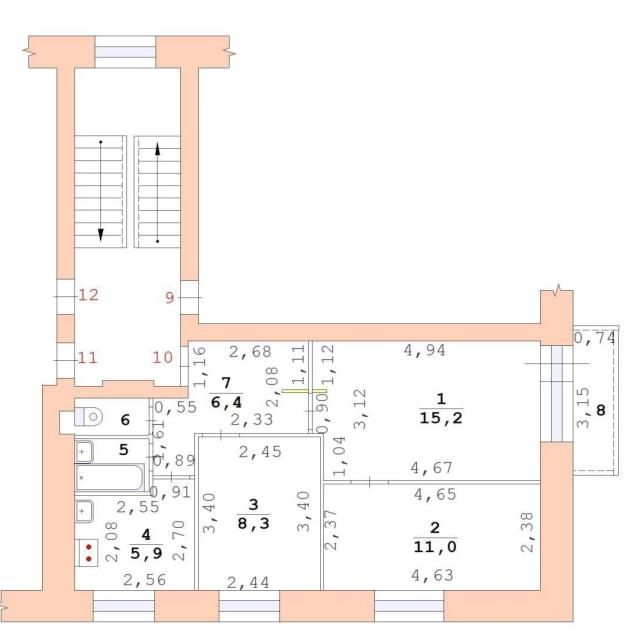Bathrooms: (76, 439, 148, 491), (60, 399, 149, 434)
Corridors: (154, 342, 308, 474), (76, 249, 180, 386), (76, 69, 179, 133), (575, 331, 613, 470)
Doors: (524, 346, 591, 382), (51, 342, 80, 379), (51, 279, 79, 315), (176, 281, 203, 314), (175, 346, 193, 387), (350, 474, 389, 490), (304, 393, 317, 430), (153, 471, 190, 484), (203, 429, 240, 442), (144, 407, 158, 435), (145, 444, 157, 471)
LBwalls: (443, 442, 574, 622), (1, 385, 93, 622), (279, 590, 375, 622), (156, 36, 230, 68), (28, 35, 94, 68), (154, 590, 219, 622), (540, 290, 574, 346)
Offices: (313, 341, 540, 479), (325, 485, 540, 590), (199, 438, 319, 590), (75, 480, 194, 589)
Stairs: (75, 134, 181, 249)
Walls: (239, 433, 351, 590), (180, 315, 540, 346), (574, 325, 619, 476), (181, 68, 199, 281), (56, 68, 74, 279), (74, 471, 153, 496), (75, 381, 189, 398), (194, 433, 202, 590), (388, 480, 540, 485), (75, 434, 153, 443), (56, 315, 75, 342), (308, 341, 312, 390), (281, 389, 327, 393), (57, 378, 75, 385), (149, 398, 153, 407), (190, 475, 194, 480), (308, 430, 313, 433)
Windows: (375, 590, 444, 622), (95, 34, 157, 69), (540, 381, 575, 441), (92, 590, 155, 623), (218, 590, 280, 623)
